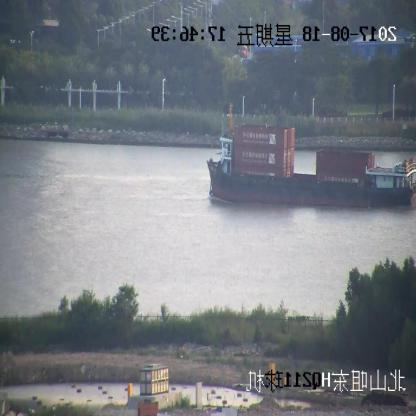Container Ship: (209, 104, 416, 209)
